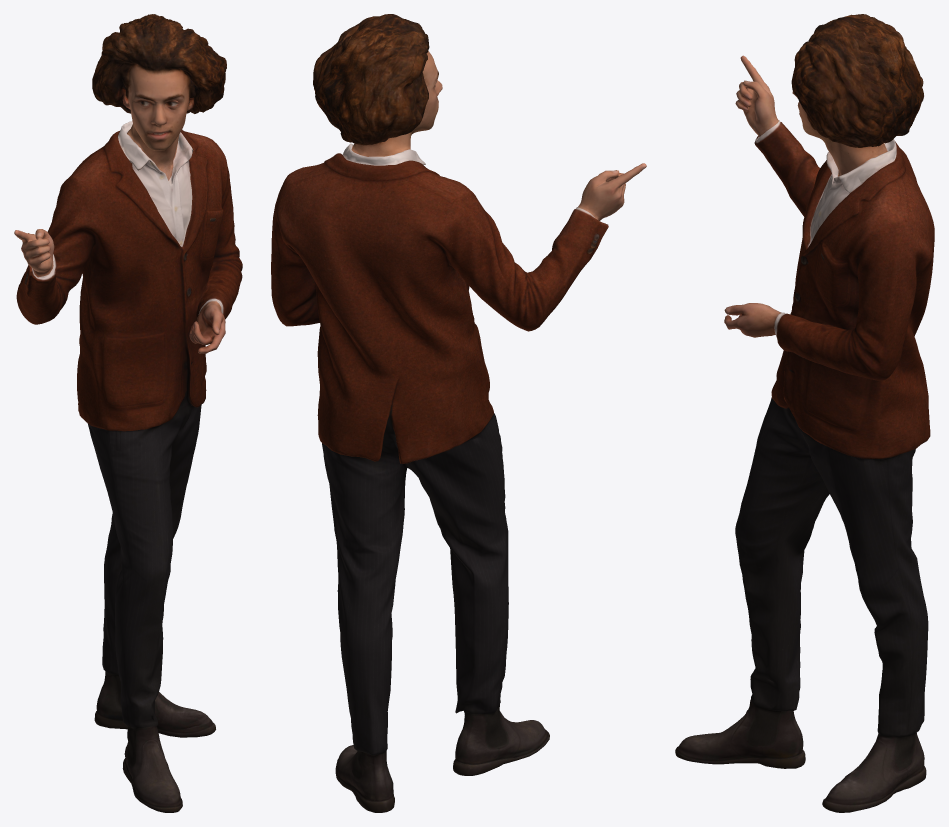
The model's file is Teacher6.glb.
3 views of the same model, side by side, from view 1: azimuth 30°, elevation 25°; view 2: azimuth 150°, elevation 25°; view 3: azimuth 270°, elevation 25° (orthographic). The views are drawn at different scales.
Parts seen in each view (by area): view 1: Object_2; view 2: Object_2; view 3: Object_2.
Boxes of the visible parts, x1,y1,x2,y2 form: Object_2: [14, 14, 242, 812]; Object_2: [271, 14, 646, 812]; Object_2: [675, 14, 934, 812].
Bounding box in the file's own units: 29.54 × 70.64 × 21.61.
1 material, 1 textured.
